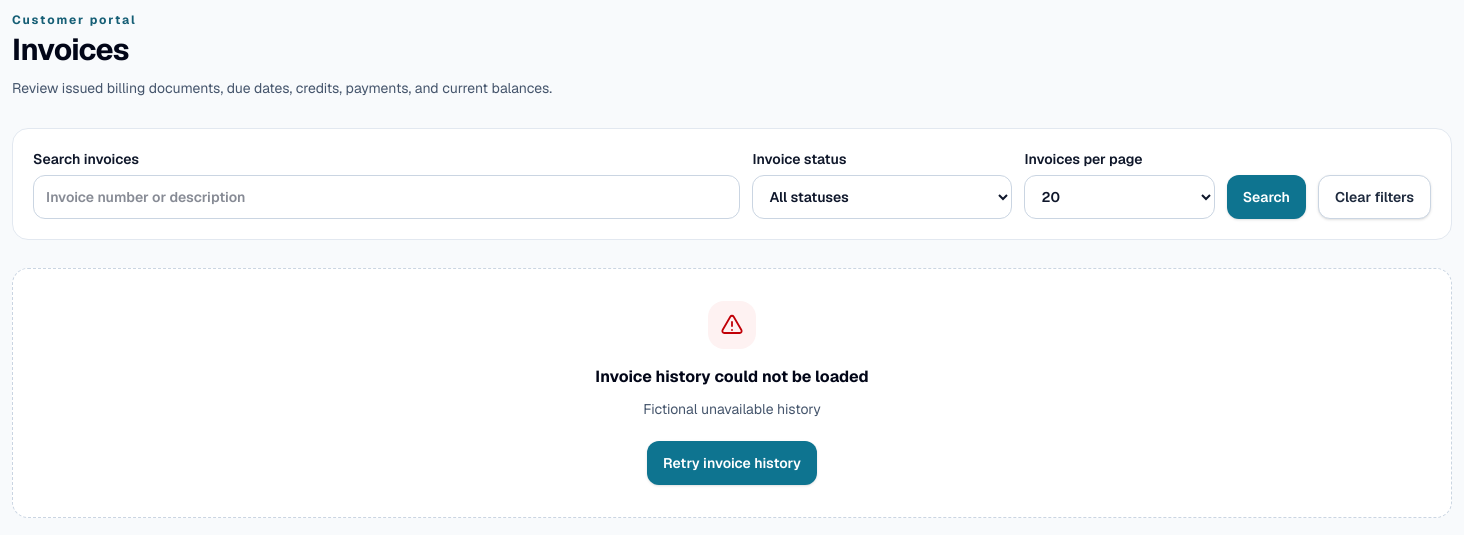
Test: URL-bound customer invoice history › keeps controls usable after failure, retries one read, and never shows failed data as fresh
Expected: the text "Fictional unavailable history" is shown, [643,400,821,418]
Expected: the text "matching invoices" is not shown
Click the button "Retry invoice history" at (732, 463), box [647,441,817,485]
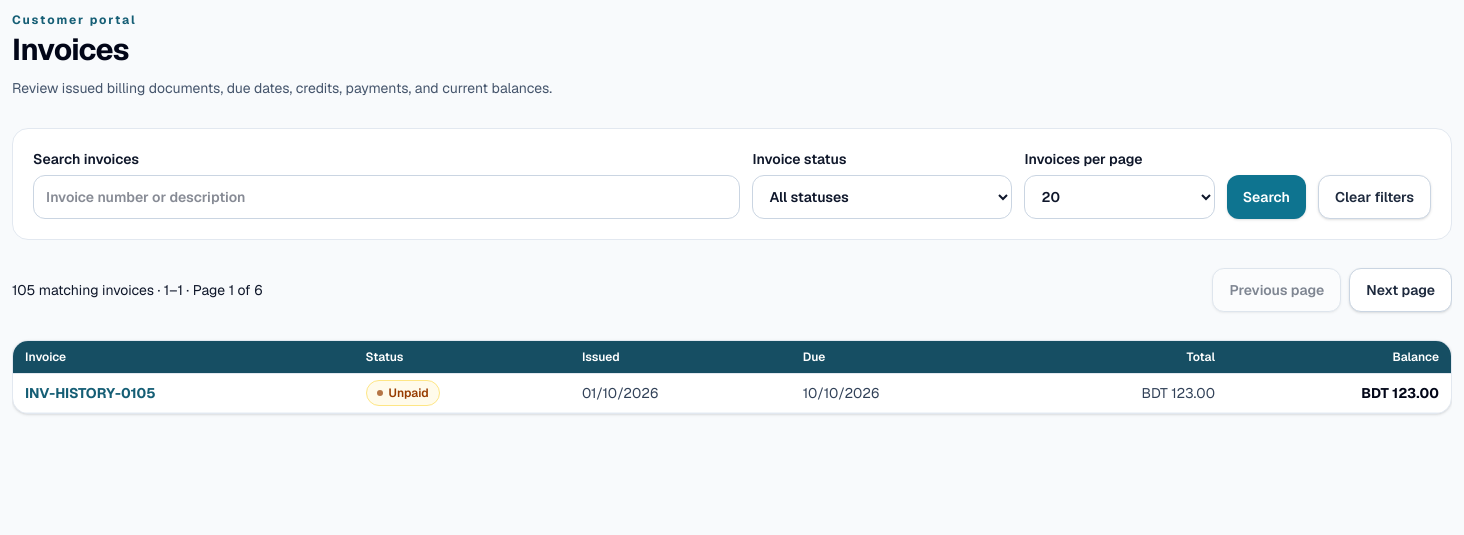
Now the link "INV-HISTORY-0105" is shown, box [25,384,156,402]
